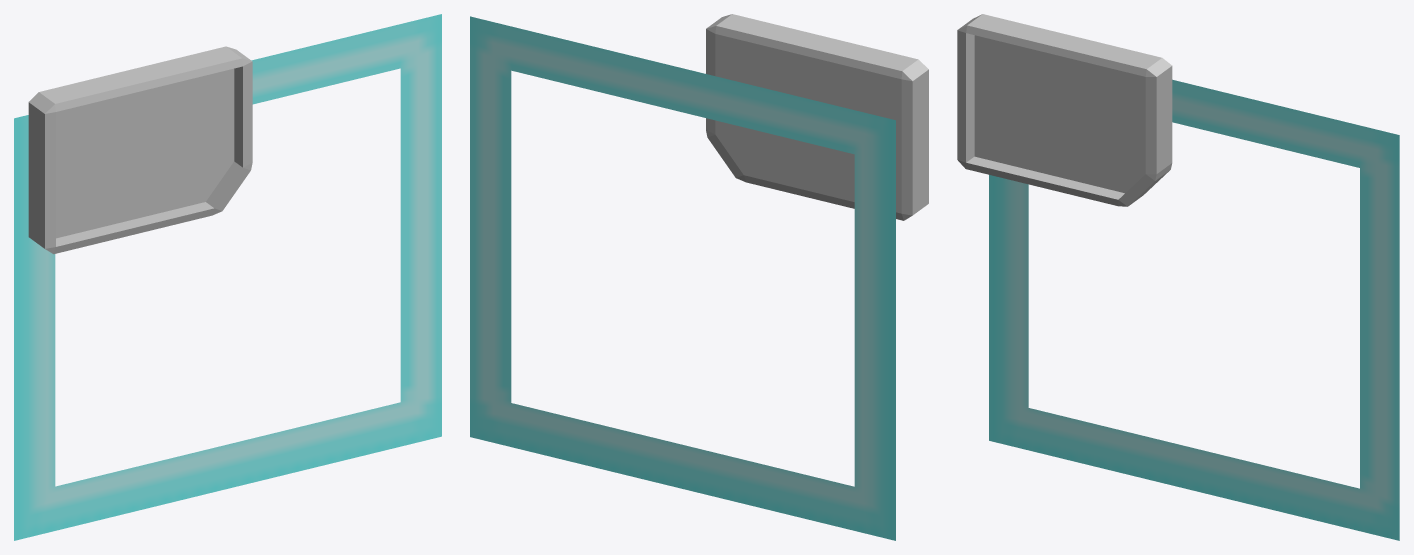
Rendered from P1 Select.fbx.
The picture shows the model from 3 angles, left to right: view 1: azimuth 30°, elevation 25°; view 2: azimuth 150°, elevation 25°; view 3: azimuth 330°, elevation 25°; orthographic projection. The views are drawn at different scales.
Parts seen in each view (by area): view 1: object_0; view 2: object_0; view 3: object_0.
Part boxes in pixels (x1,y1,x2,y2): object_0: [14, 14, 441, 540]; object_0: [470, 14, 928, 540]; object_0: [957, 14, 1399, 540].
Bounding box in the file's own units: 5230 × 5338 × 694.
